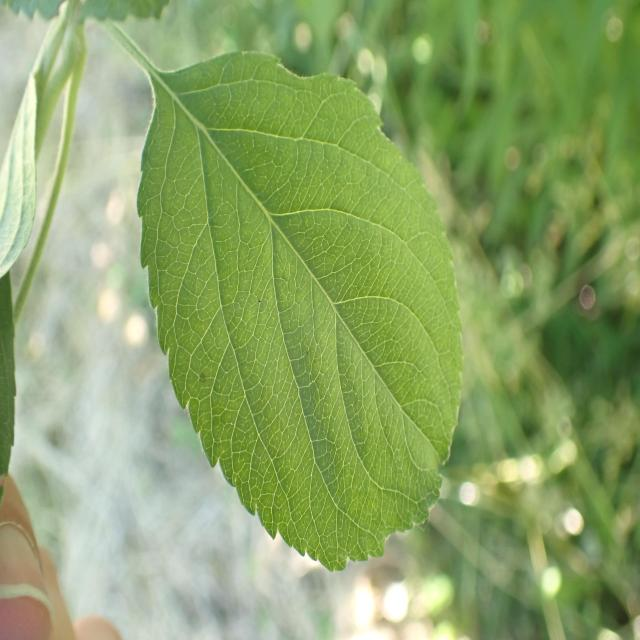healthy: (114, 20, 463, 573)
